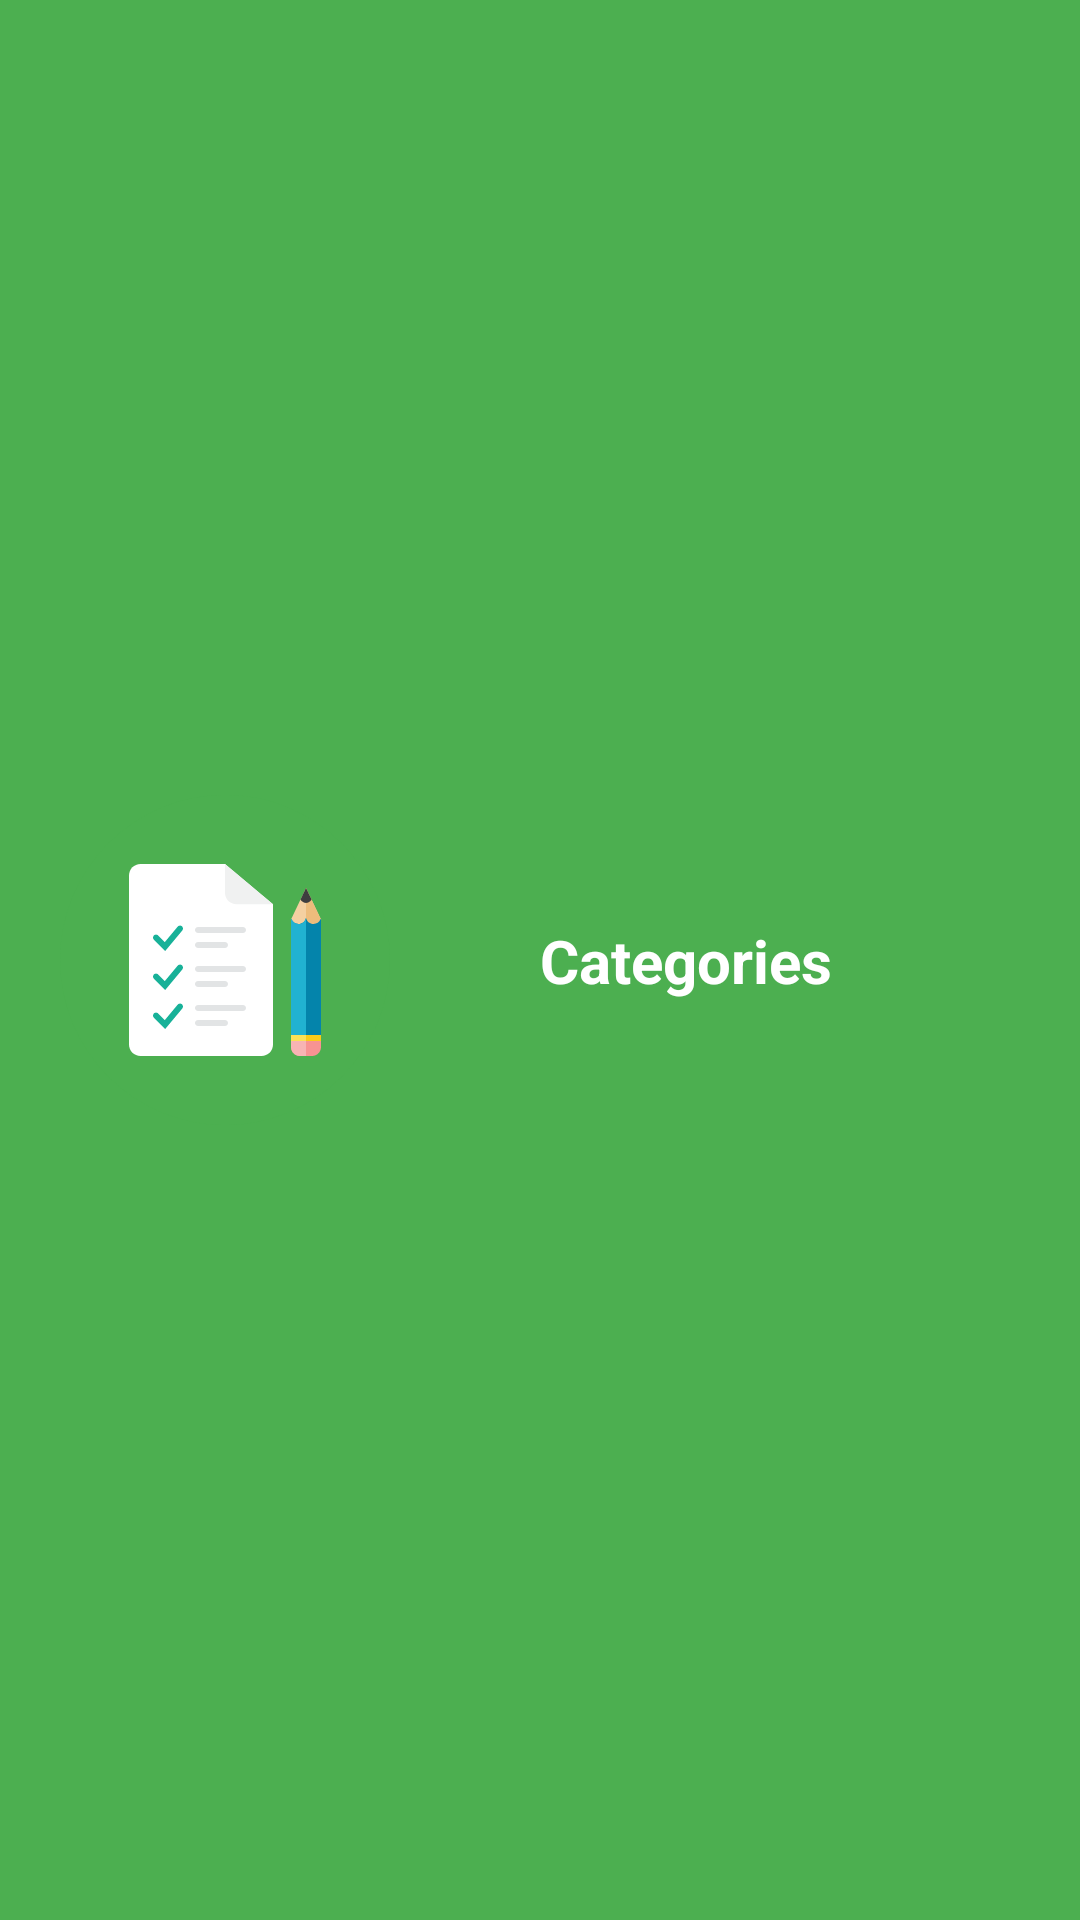

Locate icon controls on the screen. Image size 1080w x 1920h, boxes as region(x1, y1, x2, y2).
checklist: region(129, 864, 321, 1056)
